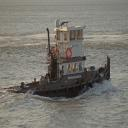tugboat: (2, 20, 112, 105)
